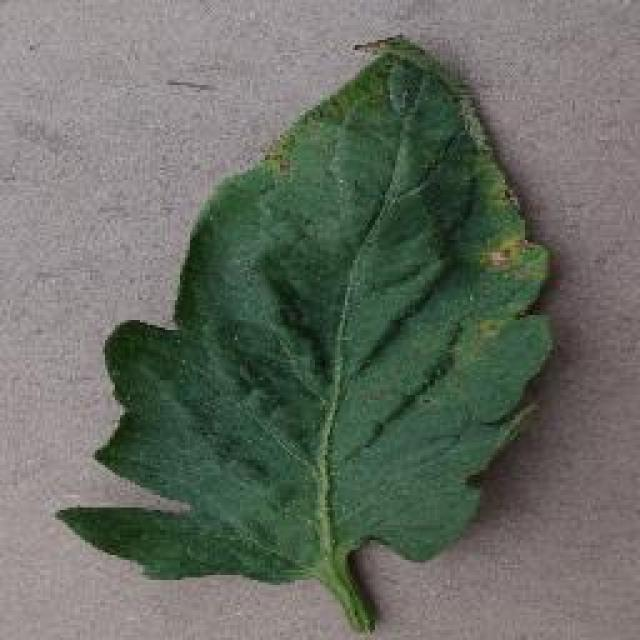Tomato___Bacterial_spot: (52, 29, 561, 635)
